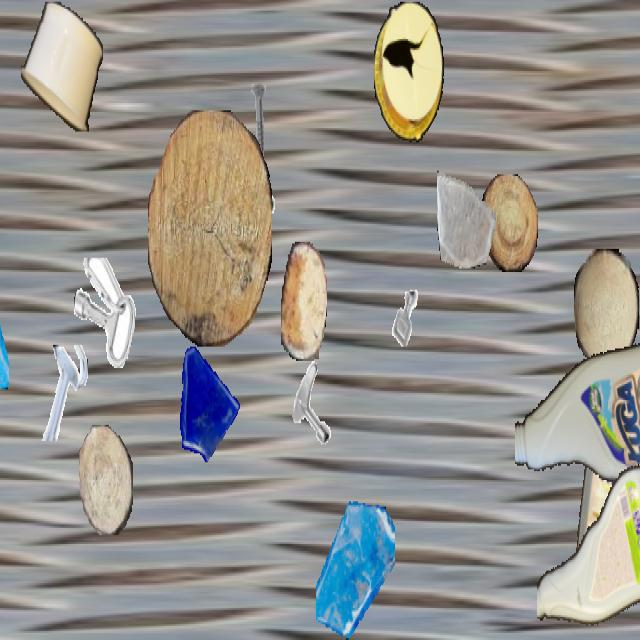glass: (316, 500, 394, 638), (170, 336, 240, 460), (437, 164, 495, 266), (0, 231, 9, 398)
metal: (223, 176, 285, 286), (74, 258, 136, 368), (36, 345, 90, 441), (286, 356, 340, 452), (235, 80, 283, 165), (384, 279, 428, 357)
plastic: (515, 313, 640, 498), (537, 457, 640, 638), (571, 386, 637, 602), (21, 2, 103, 130), (374, 2, 444, 140)
wood: (148, 110, 272, 345), (574, 249, 638, 363), (79, 425, 133, 535), (281, 242, 327, 359), (481, 174, 537, 270)
